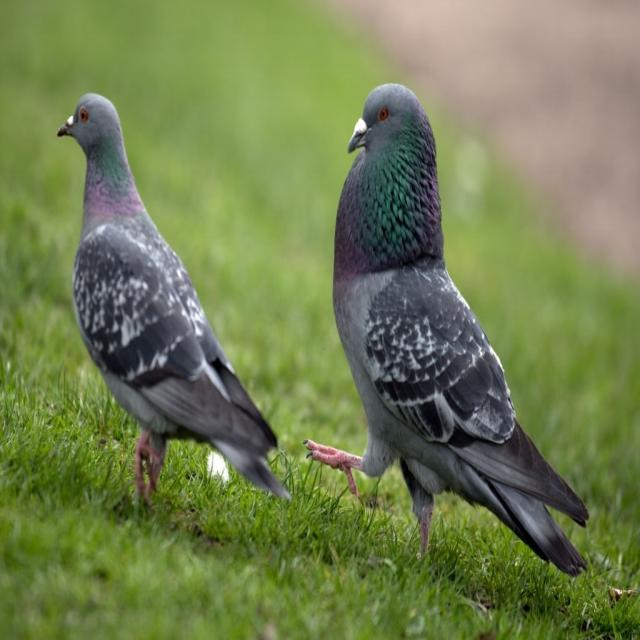bird: (315, 82, 611, 590), (61, 90, 287, 522)
